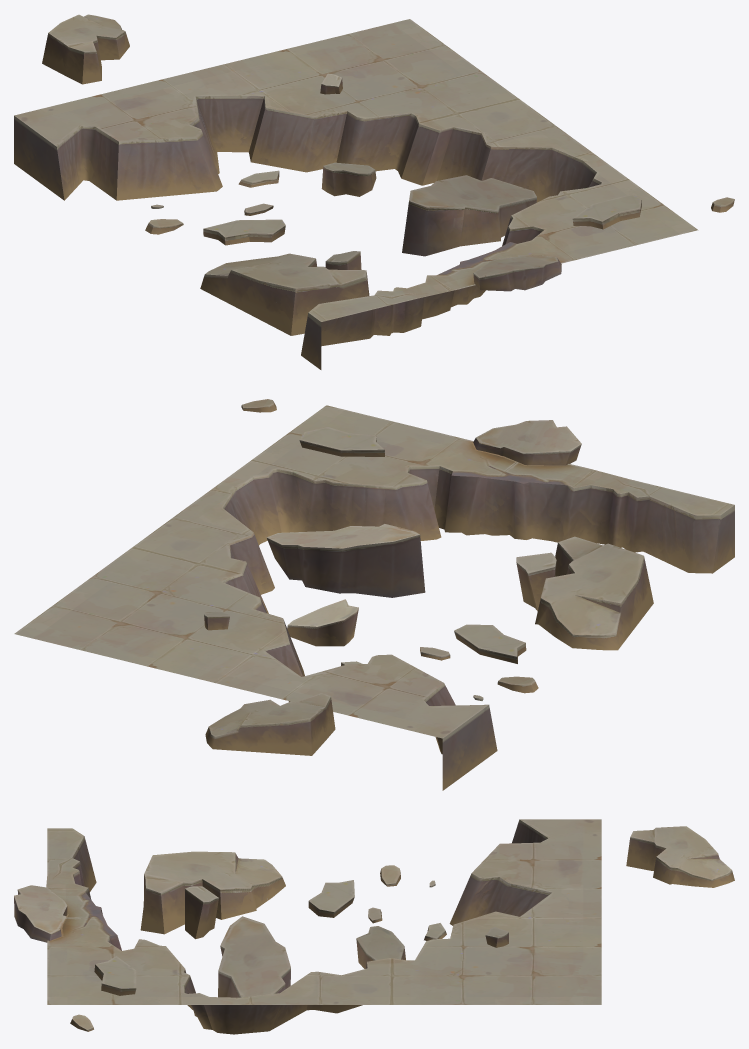
Rendered from Chapter03_Buggy_GroundDamage03.fbx.
3 renders of one model, top to bottom at view 1: azimuth 30°, elevation 25°; view 2: azimuth 150°, elevation 25°; view 3: azimuth 270°, elevation 25°, orthographic. The views are drawn at different scales.
Parts seen in each view (by area): view 1: Chapter03_Buggy_GroundDamage03; view 2: Chapter03_Buggy_GroundDamage03; view 3: Chapter03_Buggy_GroundDamage03.
Part boxes in pixels (x1,y1,x2,y2): Chapter03_Buggy_GroundDamage03: [14, 14, 734, 369]; Chapter03_Buggy_GroundDamage03: [14, 399, 734, 790]; Chapter03_Buggy_GroundDamage03: [14, 819, 734, 1034].
Bounding box in the file's own units: 961 × 182 × 1379.
